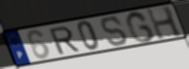0: (77, 20, 103, 52)
6: (26, 29, 53, 61)
G: (124, 10, 156, 44)
H: (145, 5, 185, 42)
R: (47, 25, 82, 56)
S: (100, 15, 130, 47)
